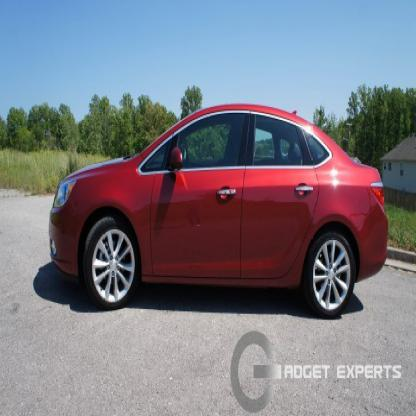Vehicle: (50, 104, 388, 312)
